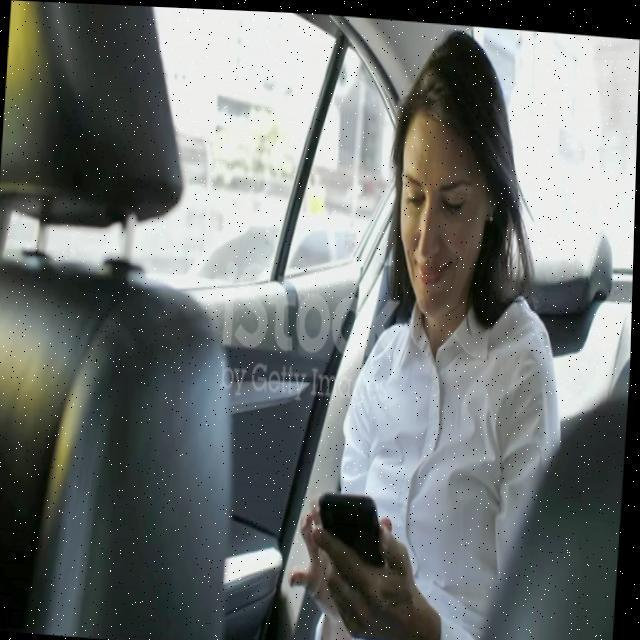PhoneCall: (314, 481, 394, 576)
